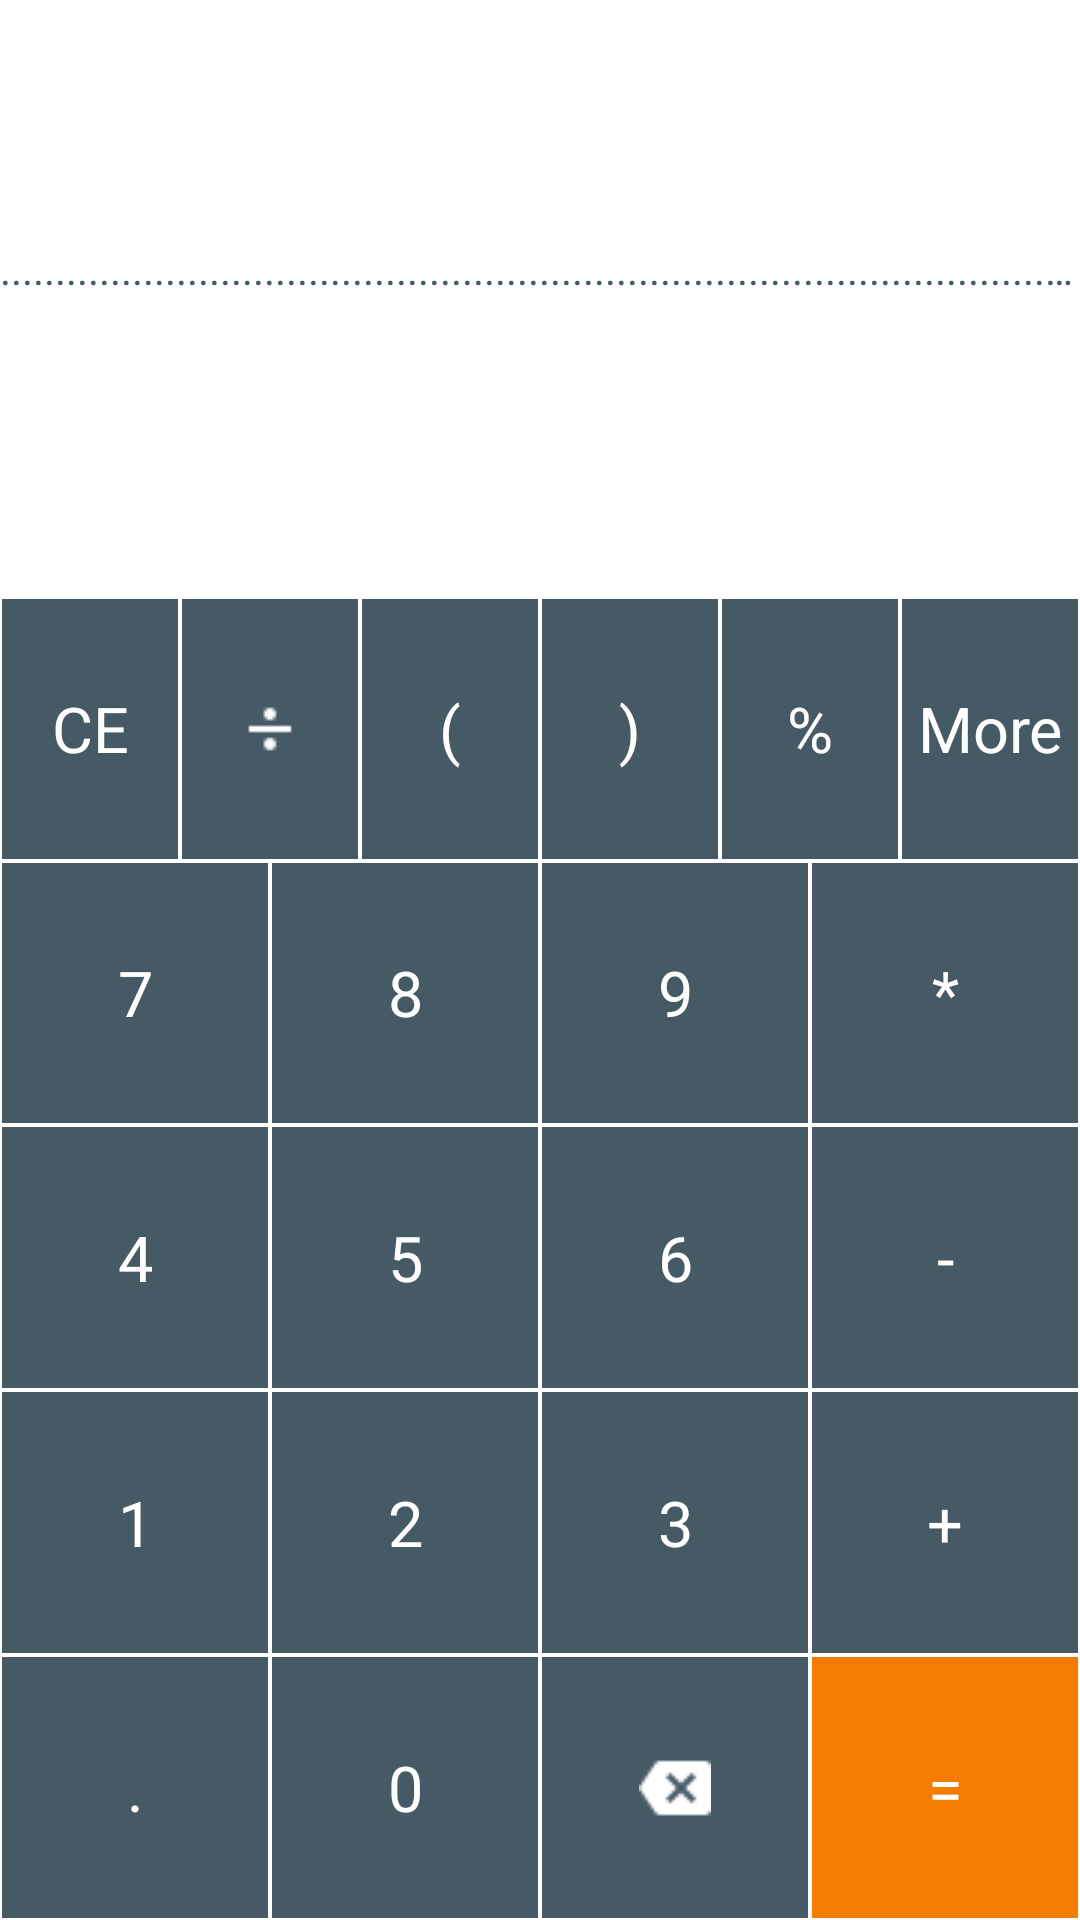

Icon click points for this 1080w x 1920h phone screenshot, format point (x, y):
division: point (270, 729)
